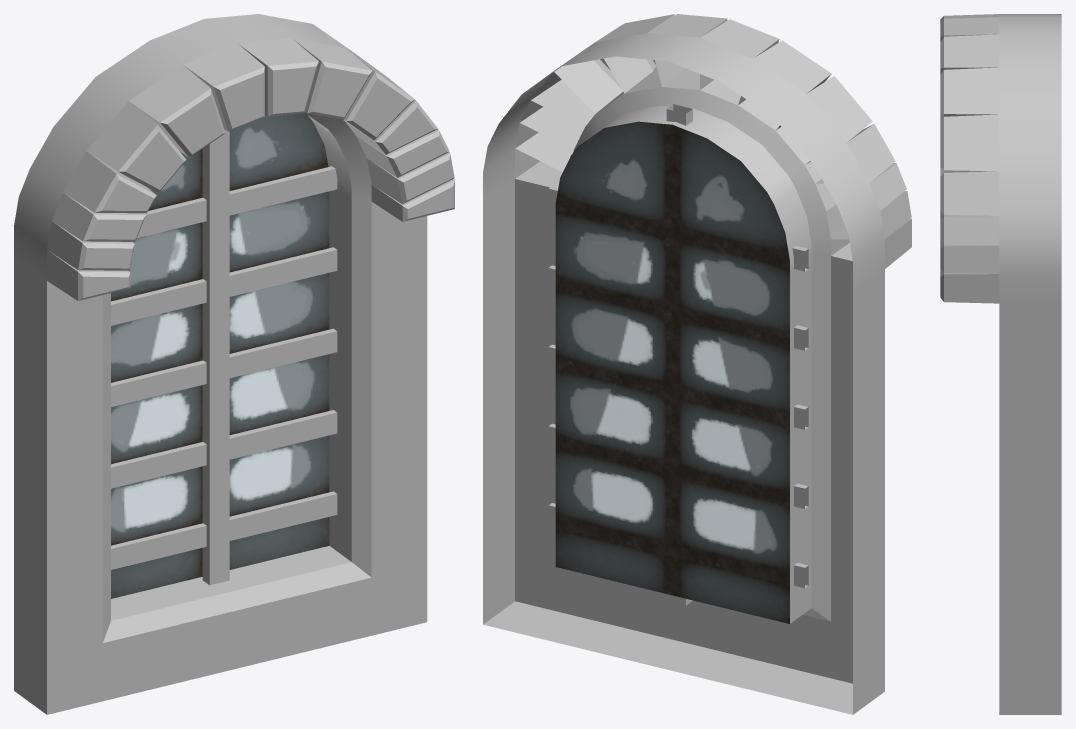
Rendered from SM_Window_C.fbx.
3 views of the same model, side by side, from view 1: azimuth 30°, elevation 25°; view 2: azimuth 150°, elevation 25°; view 3: azimuth 270°, elevation 25° (orthographic). The views are drawn at different scales.
Parts seen in each view (by area): view 1: SM_Window_C_LOD0; view 2: SM_Window_C_LOD0; view 3: SM_Window_C_LOD0.
Boxes of the visible parts, x1,y1,x2,y2 form: SM_Window_C_LOD0: (14,14,454,714); SM_Window_C_LOD0: (483,14,911,714); SM_Window_C_LOD0: (940,14,1061,714).
Size of the model in its own units: 113 by 33 by 178.
